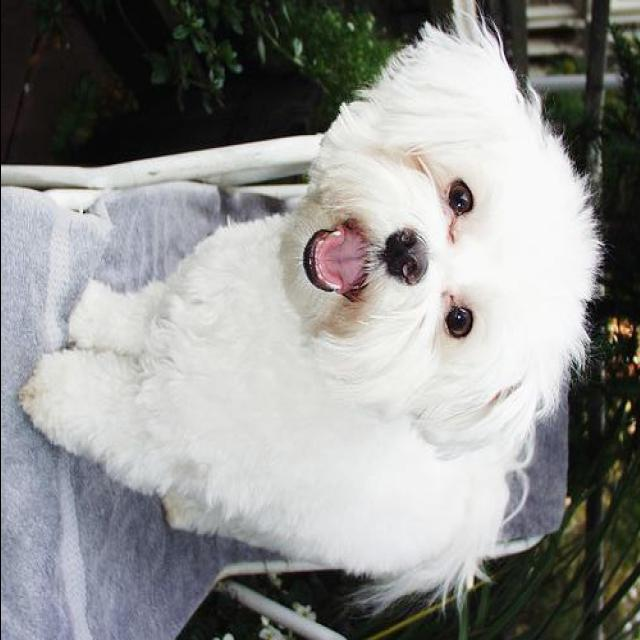maltese_dog: (15, 10, 607, 610)
